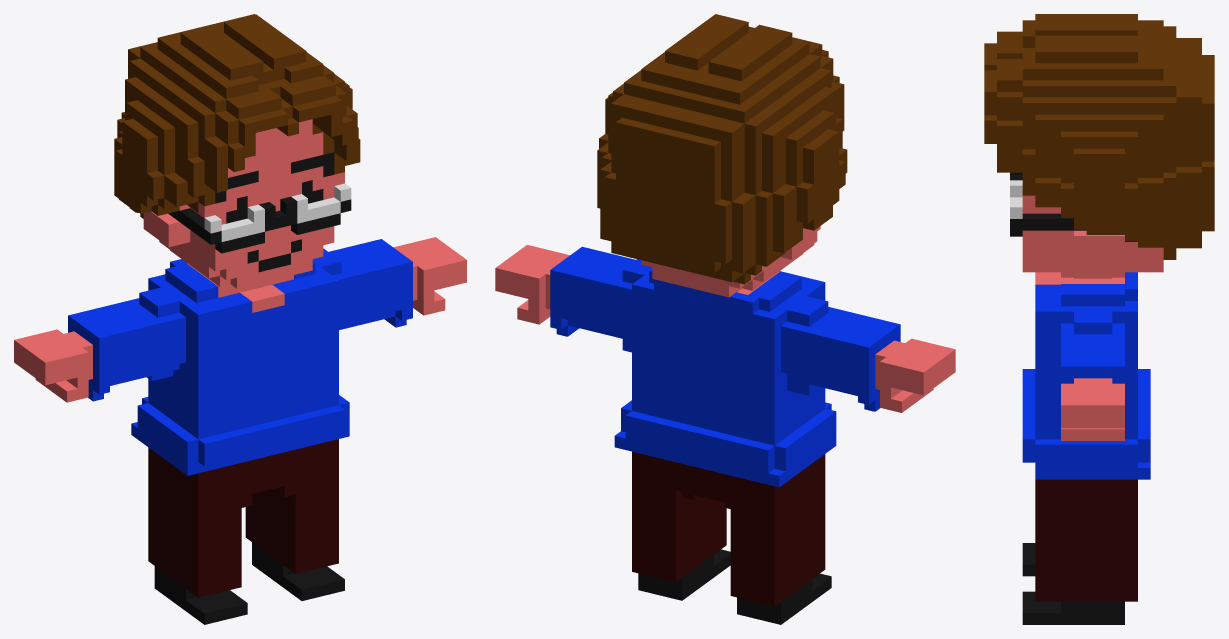
The model's file is hiroppe_drunk_Hiroppe.vox.obj.
3 renders of one model, left to right at view 1: azimuth 30°, elevation 25°; view 2: azimuth 150°, elevation 25°; view 3: azimuth 270°, elevation 25°, orthographic. The views are drawn at different scales.
Size of the model in its own units: 3.9 by 4.8 by 1.8.
Materials: 1 (1 with a texture image).
